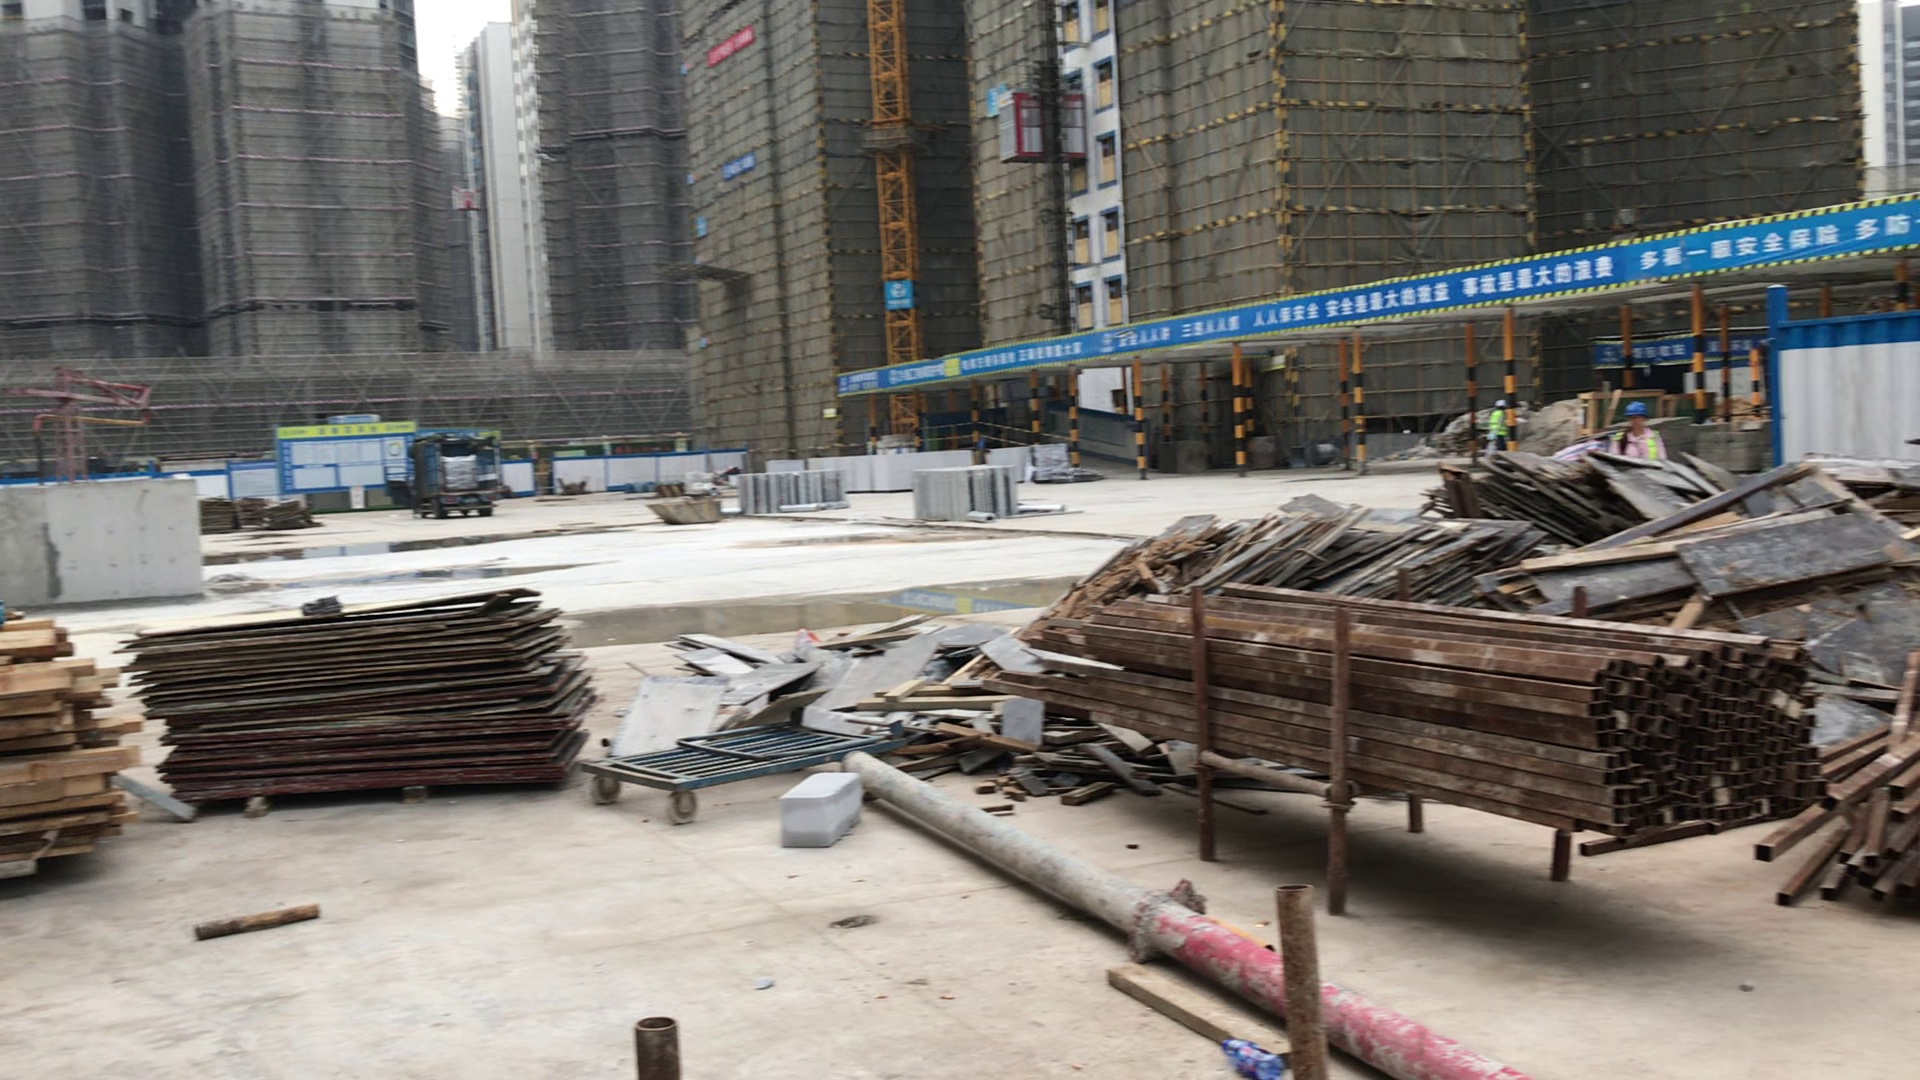board: (135, 604, 581, 783)
helmet: (1626, 402, 1647, 418), (1494, 400, 1507, 408)
hopper: (648, 499, 724, 524)
person: (1616, 404, 1665, 467), (1485, 401, 1510, 453)
scaffold: (1052, 593, 1825, 833)
slogan: (1636, 200, 1920, 271), (1321, 254, 1619, 310), (1102, 308, 1327, 343), (948, 337, 1086, 366), (1608, 338, 1748, 362), (701, 26, 755, 65), (720, 150, 759, 181)
vest: (1621, 430, 1656, 460), (1490, 410, 1505, 436)
wood: (1, 627, 138, 889)
